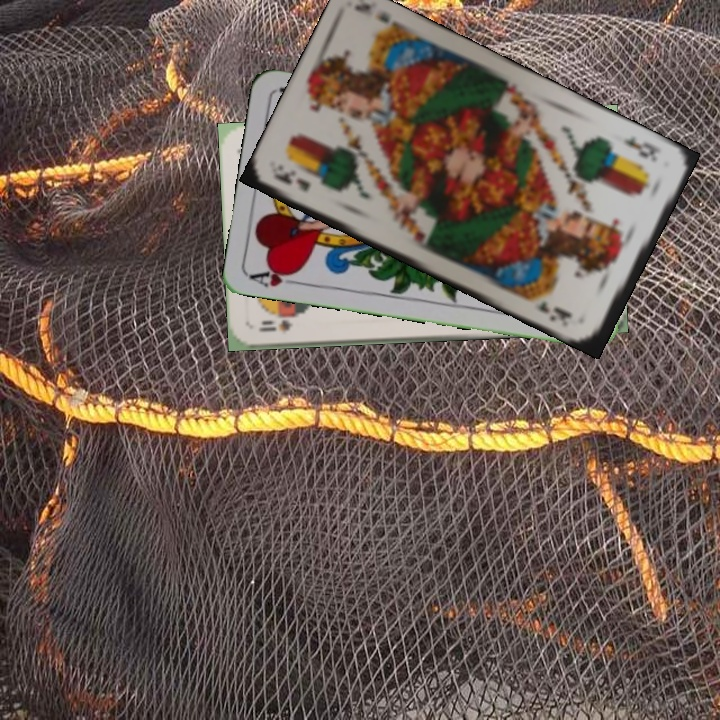EK: (619, 131, 664, 165), (269, 168, 313, 195)
HA: (247, 263, 306, 290)
SO: (255, 312, 302, 334)
